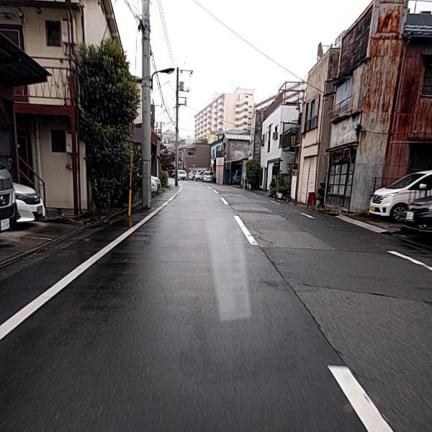Road: (0, 182, 431, 431)
